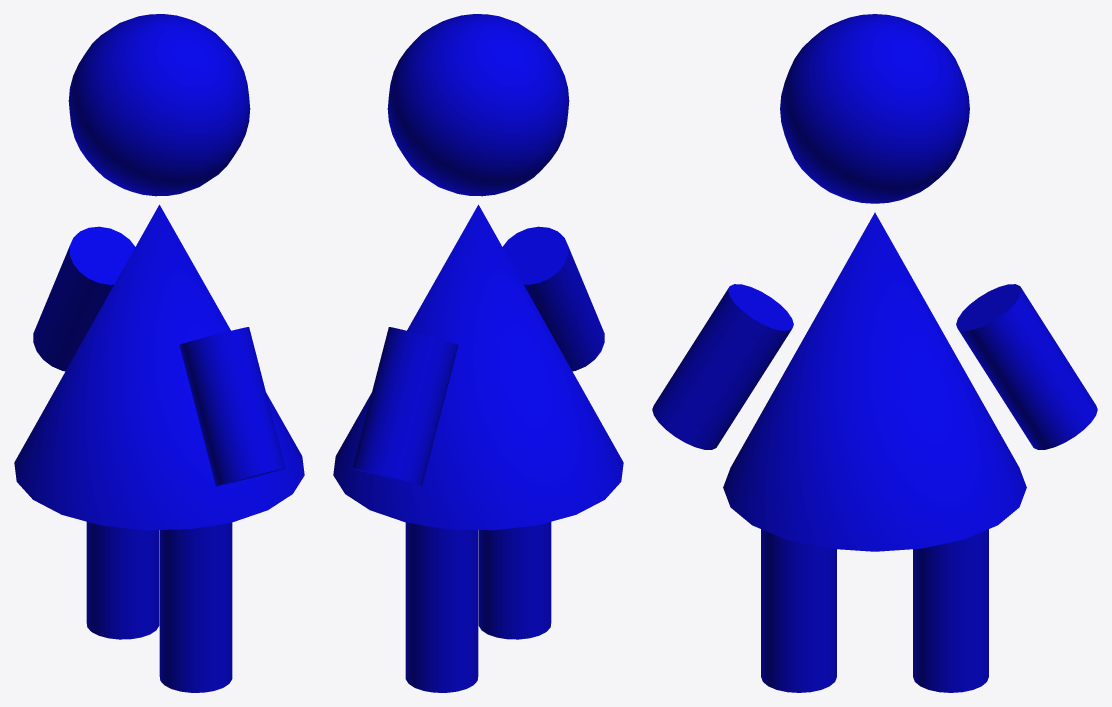
Rendered from normal.fbx.
3 renders of one model, left to right at view 1: azimuth 30°, elevation 25°; view 2: azimuth 150°, elevation 25°; view 3: azimuth 270°, elevation 25°, orthographic. The views are drawn at different scales.
Visible parts, largest first — view 1: pCone1, pSphere1, pCylinder1, pCylinder3, pCylinder2, pCylinder4; view 2: pCone1, pSphere1, pCylinder2, pCylinder4, pCylinder1, pCylinder3; view 3: pCone1, pSphere1, pCylinder3, pCylinder4, pCylinder1, pCylinder2.
Part boxes in pixels (<box>): pCone1: <box>14,204,304,530</box>; pSphere1: <box>68,14,250,196</box>; pCylinder1: <box>159,522,232,692</box>; pCylinder3: <box>179,327,285,486</box>; pCylinder2: <box>86,522,159,639</box>; pCylinder4: <box>33,226,135,371</box>; pCone1: <box>333,204,623,530</box>; pSphere1: <box>387,14,569,196</box>; pCylinder2: <box>405,522,478,692</box>; pCylinder4: <box>352,327,458,486</box>; pCylinder1: <box>478,522,551,639</box>; pCylinder3: <box>502,226,604,371</box>; pCone1: <box>723,212,1026,551</box>; pSphere1: <box>780,14,969,203</box>; pCylinder3: <box>652,284,793,449</box>; pCylinder4: <box>956,284,1097,449</box>; pCylinder1: <box>761,529,836,692</box>; pCylinder2: <box>913,529,988,692</box>.
Bounding box in the file's own units: 1.6 × 3.8 × 2.35.
